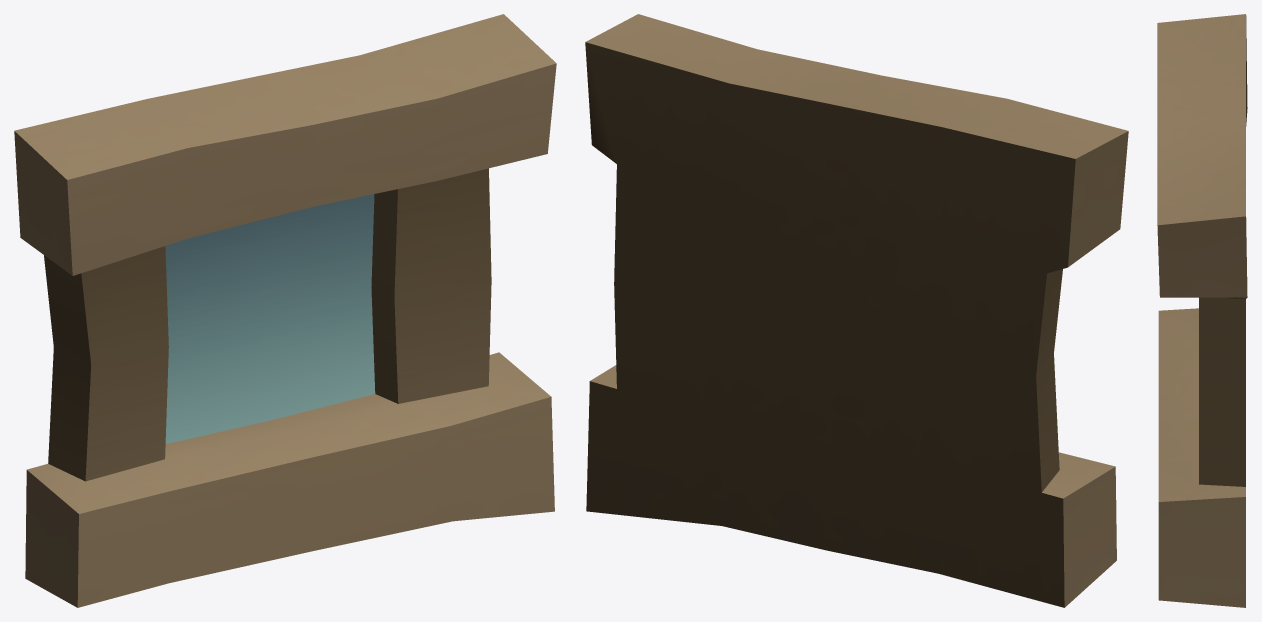
File: window.fbx
3 views of the same model, side by side, from view 1: azimuth 30°, elevation 25°; view 2: azimuth 150°, elevation 25°; view 3: azimuth 270°, elevation 25° (orthographic). The views are drawn at different scales.
Parts seen in each view (by area): view 1: window; view 2: window; view 3: window.
Part boxes in pixels (x1,y1,x2,y2): window: (14,14,556,607); window: (585,14,1128,607); window: (1157,14,1247,607).
Size of the model in its own units: 94.54 by 86.88 by 17.98.
